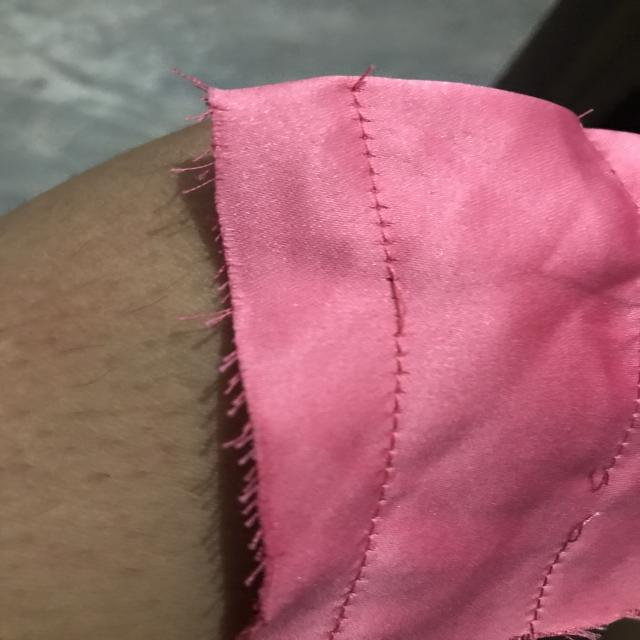skip: (368, 249, 426, 346)
